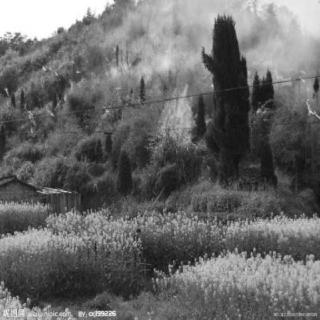Smoke: (262, 33, 298, 67), (153, 47, 171, 63)
